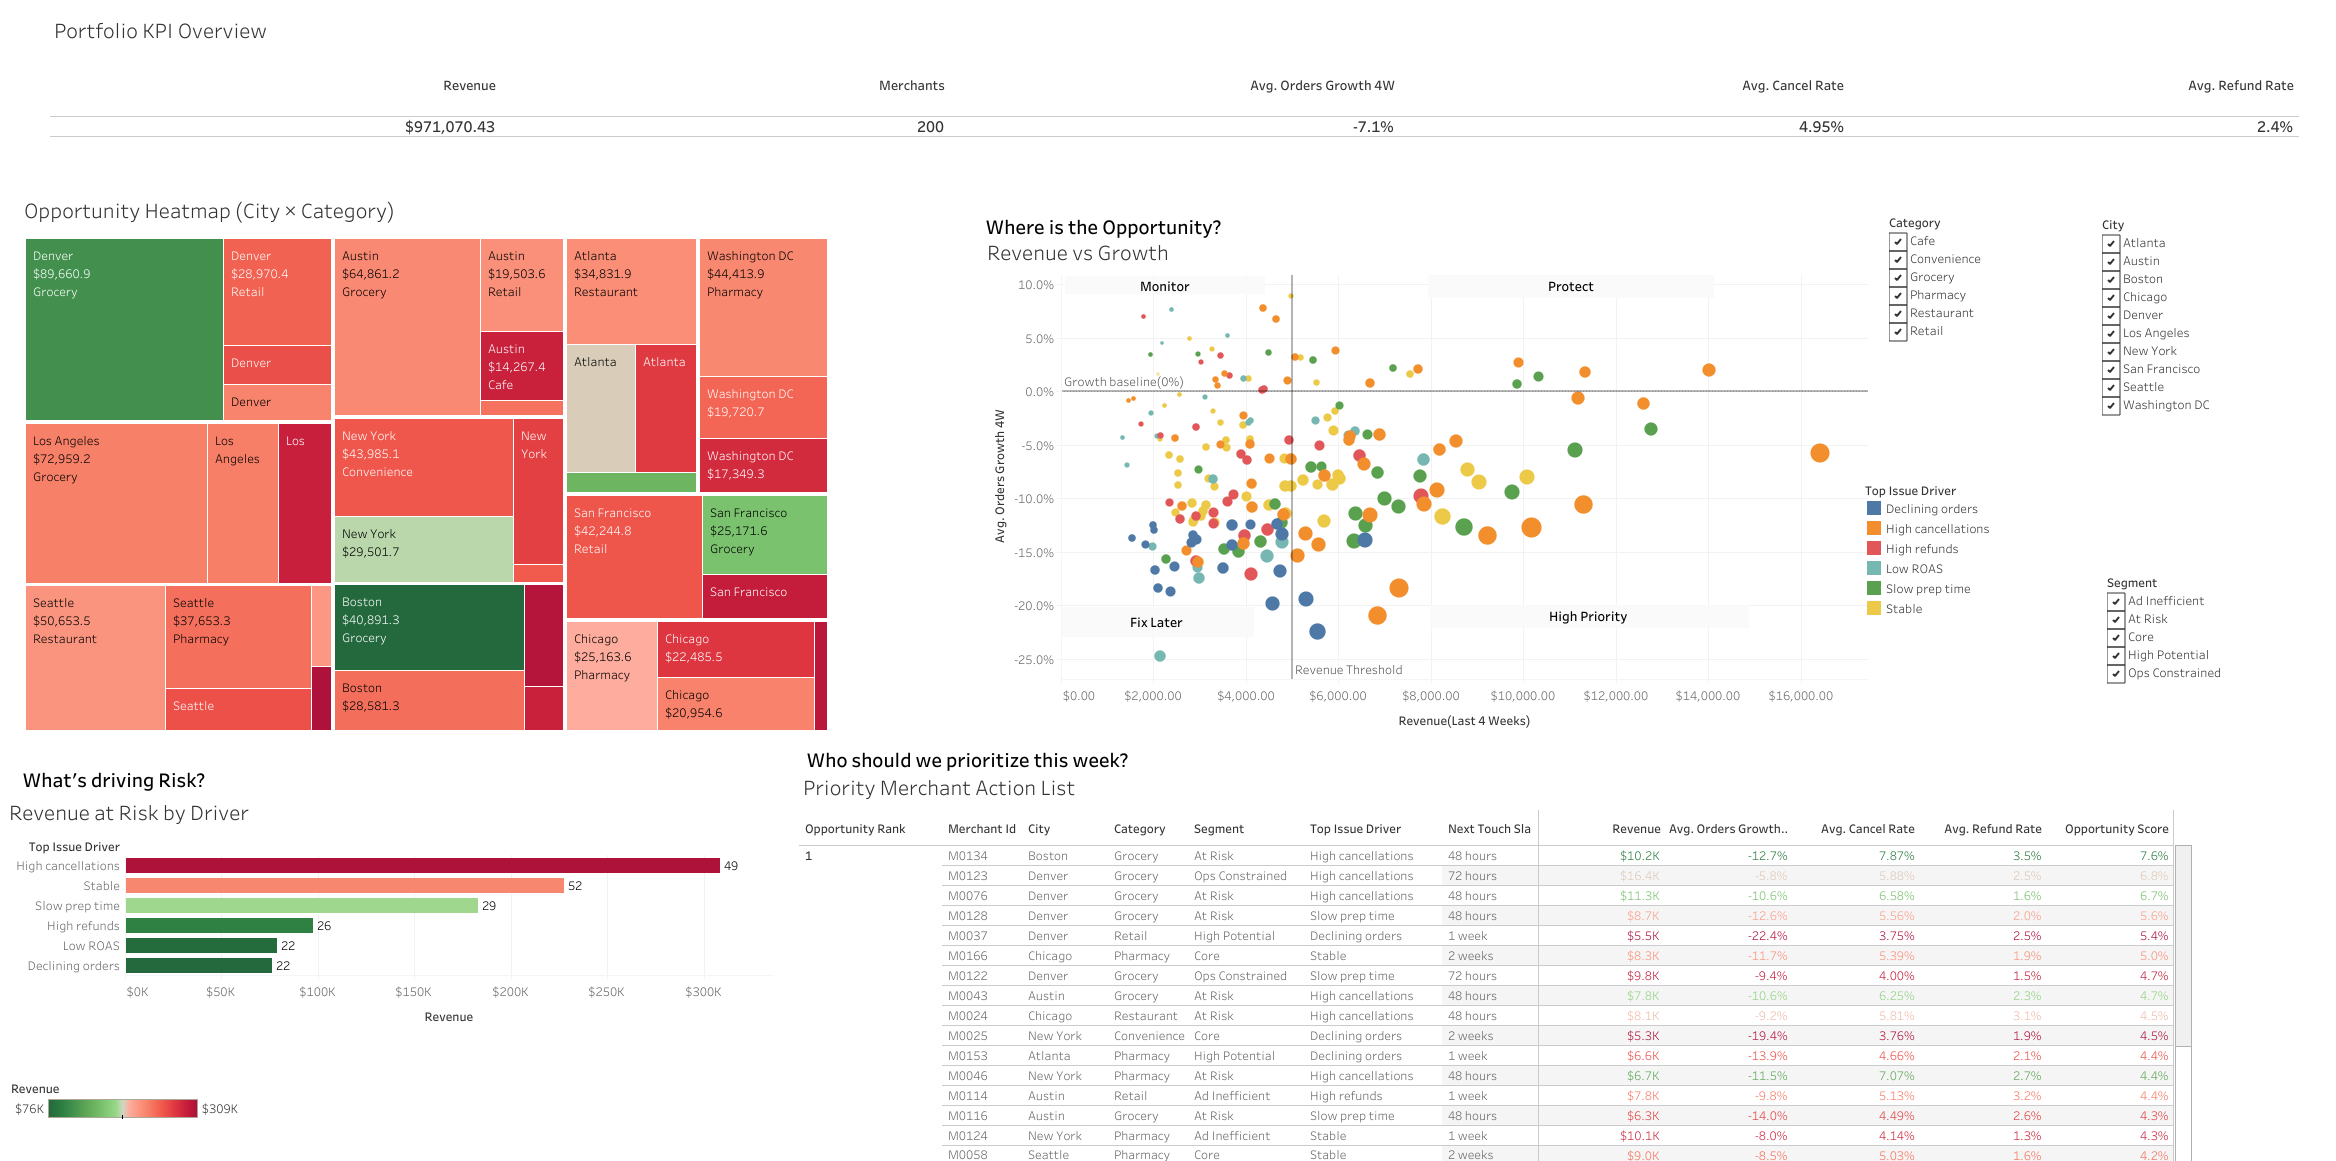

The dashboard page shown, as its layout file describes it:
{"tool":"tableau","page":{"name":"Merchant Growth Analytics","canvas":[1300,800],"ordinal":0},"visuals":[{"type":"worksheet","title":"Portfolio KPI Overview","mark":"Text","box":[28,7,1251,126]},{"type":"text","box":[8,8,1284,784]},{"type":"text","box":[33.4,41.3,55.6,20.7]},{"type":"worksheet","title":"Opportunity Heatmap (City × Category)","mark":"Automatic","box":[11,131,533,376]},{"type":"text","box":[547,143,443,26]},{"type":"filter","title":"Priority Merchant Action List","param":"[federated.050v0kp1kolhho1cs0nci07s410c].[none:category:nk]","box":[1051,146,103,180]},{"type":"filter","title":"Priority Merchant Action List","param":"[federated.050v0kp1kolhho1cs0nci07s410c].[none:city:nk]","box":[1169,147,125,247]},{"type":"worksheet","title":"Revenue vs Growth","mark":"Circle","rows":["orders_growth_4w"],"cols":["revenue"],"box":[547,160,492,347]},{"type":"legend","title":"Revenue vs Growth","param":"[federated.050v0kp1kolhho1cs0nci07s410c].[none:top_issue_driver:nk]","box":[1037,330,136,159]},{"type":"filter","title":"Priority Merchant Action List","param":"[federated.050v0kp1kolhho1cs0nci07s410c].[none:segment:nk]","box":[1172,394,126,149]},{"type":"text","box":[447,507,371,32]},{"type":"text","box":[11,525,235,22]},{"type":"worksheet","title":"Priority Merchant Action List","mark":"Automatic","rows":["merchant_id","city","category","segment","top_issue_driver","next_touch_sla"],"box":[444.5,528.1,826.6,272.6]},{"type":"worksheet","title":"Revenue at Risk by Driver","mark":"Automatic","rows":["top_issue_driver"],"cols":["revenue"],"box":[3,545,427,254]},{"type":"legend","title":"Revenue at Risk by Driver","param":"[federated.050v0kp1kolhho1cs0nci07s410c].[sum:revenue:qk]","box":[6,740,130,59]}]}

Visuals, with their boxes on the page's 1300x800 design canvas (x1, y1, x2, y2). These are canvas units, not pixel positions in the 2336x1161 screenshot, which may show the page scaled, cropped or inside an application window:
"Portfolio KPI Overview" worksheet (Text marks): box(28, 7, 1279, 133)
text: box(8, 8, 1292, 792)
text: box(33, 41, 89, 62)
"Opportunity Heatmap (City × Category)" worksheet: box(11, 131, 544, 507)
text: box(547, 143, 990, 169)
"Priority Merchant Action List" filter: box(1051, 146, 1154, 326)
"Priority Merchant Action List" filter: box(1169, 147, 1294, 394)
"Revenue vs Growth" worksheet (Circle marks): box(547, 160, 1039, 507)
"Revenue vs Growth" legend: box(1037, 330, 1173, 489)
"Priority Merchant Action List" filter: box(1172, 394, 1298, 543)
text: box(447, 507, 818, 539)
text: box(11, 525, 246, 547)
"Priority Merchant Action List" worksheet: box(444, 528, 1271, 801)
"Revenue at Risk by Driver" worksheet: box(3, 545, 430, 799)
"Revenue at Risk by Driver" legend: box(6, 740, 136, 799)
